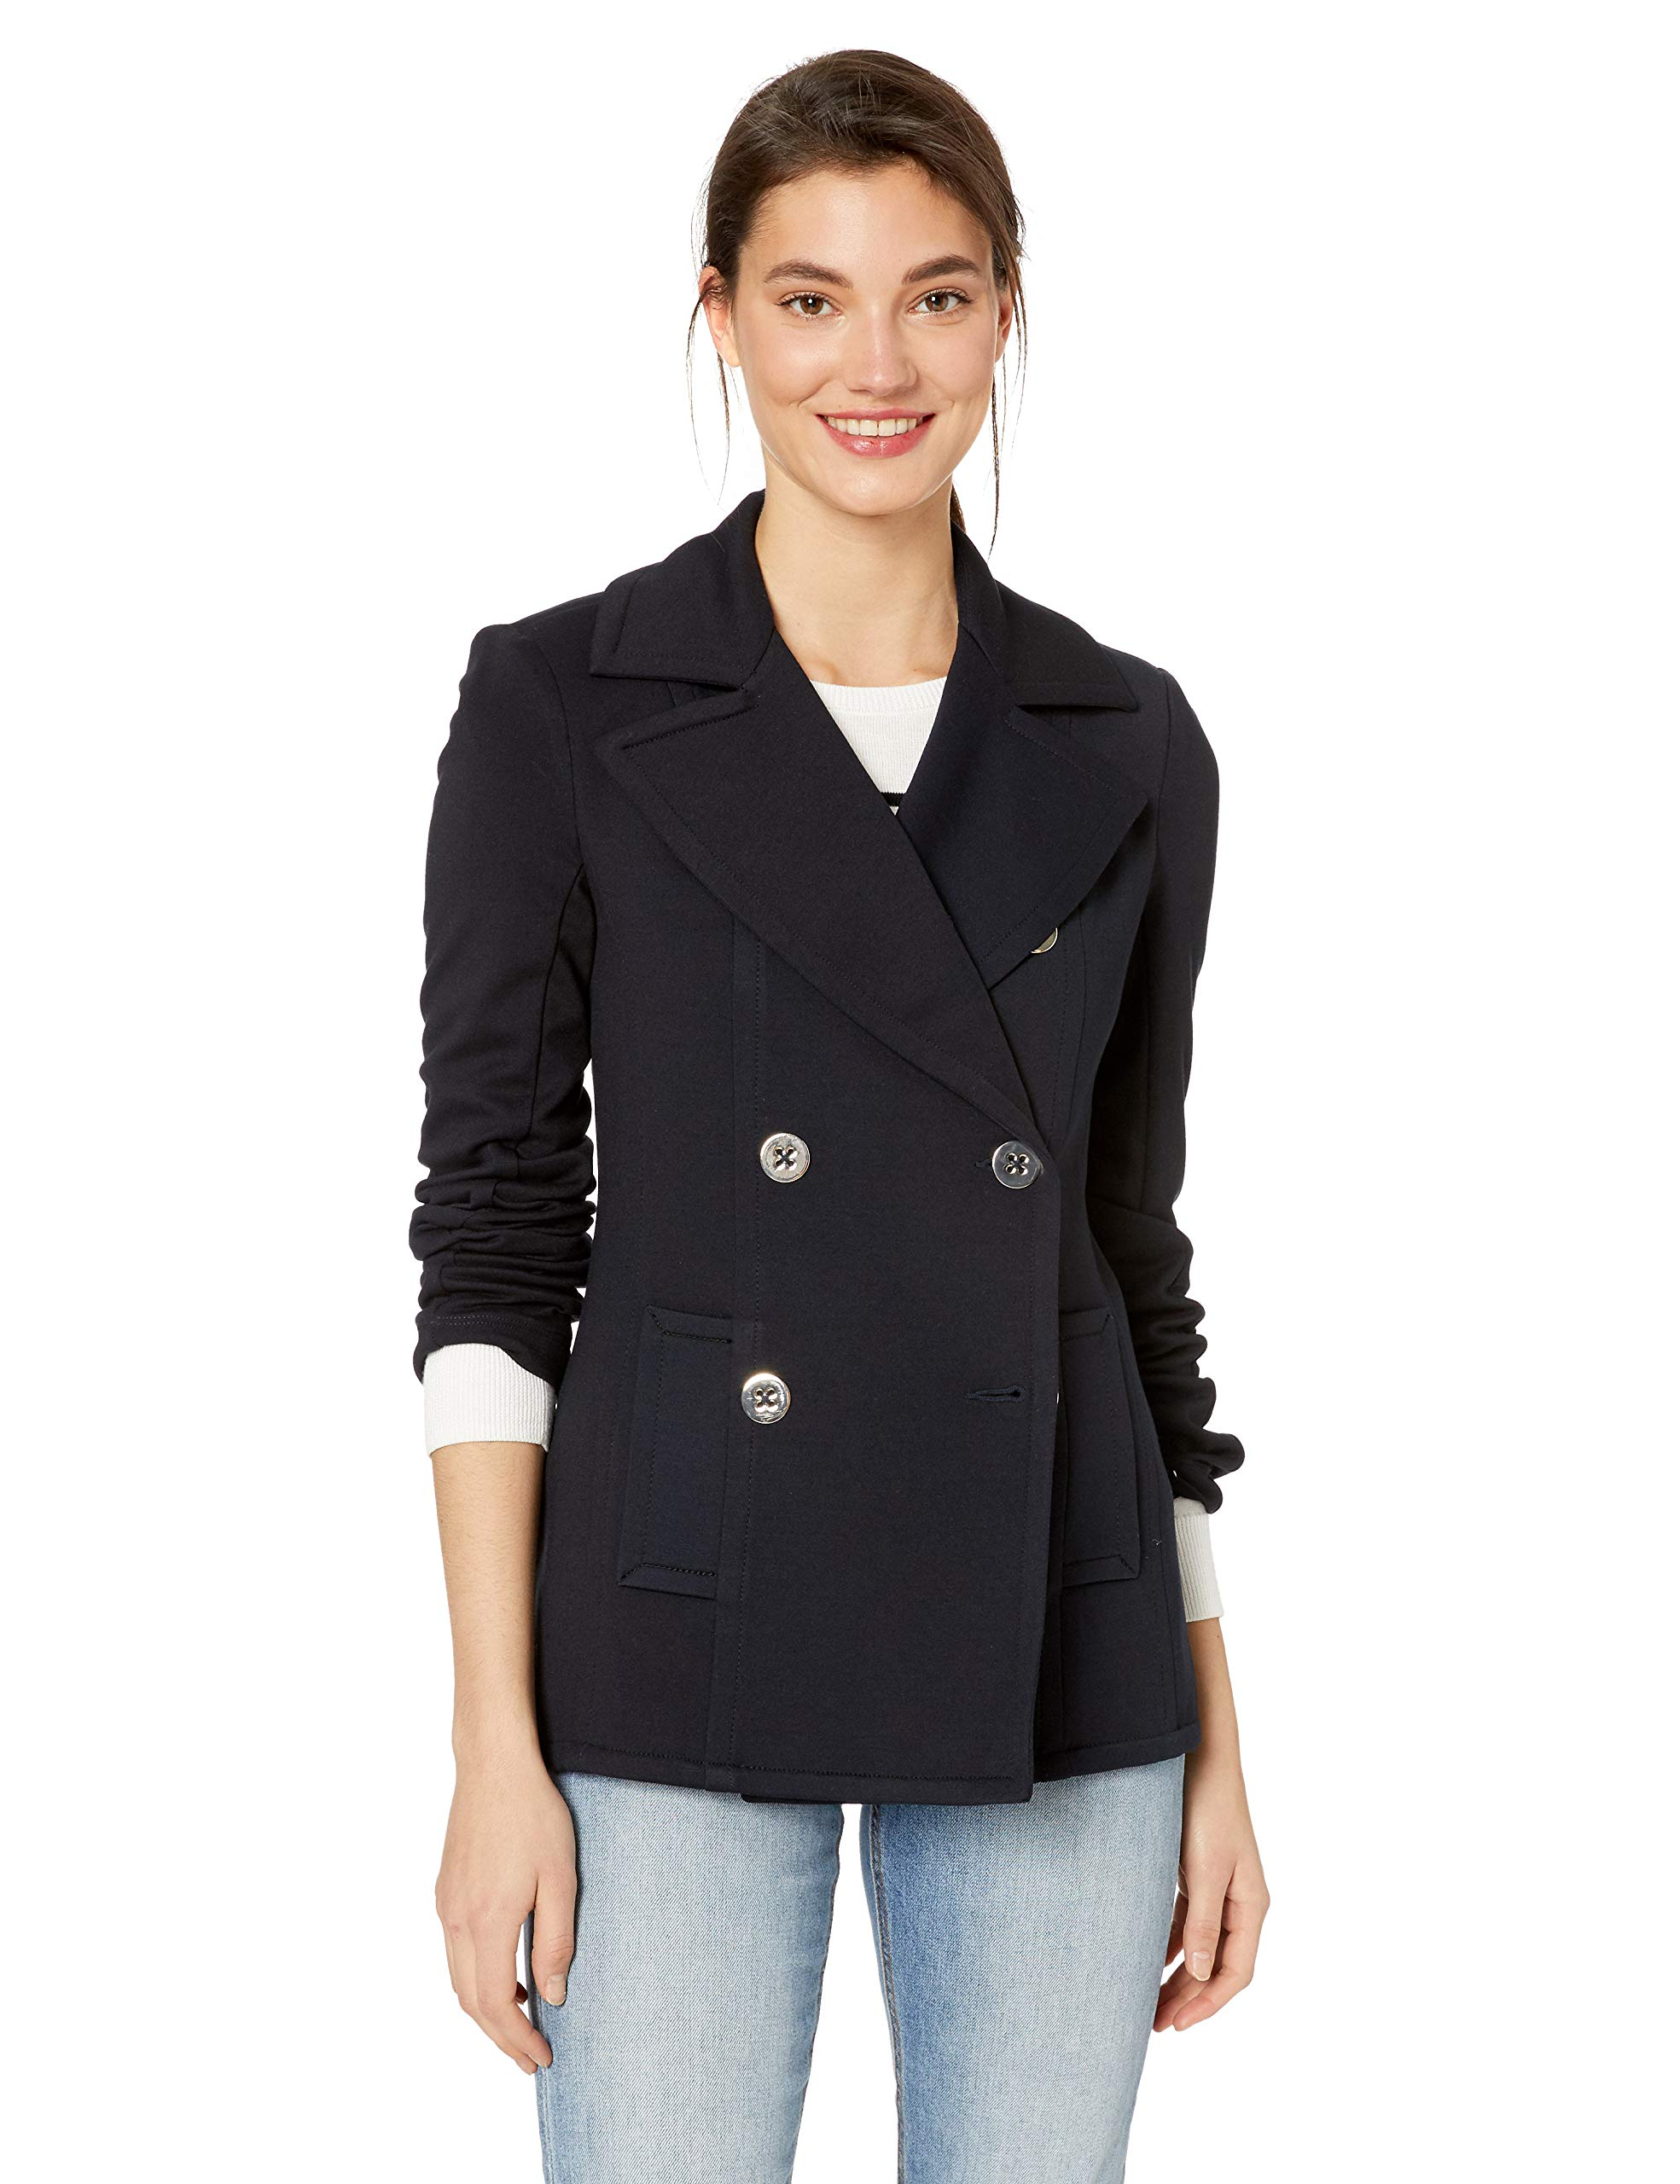F_W_suit jacket: (378, 489, 1253, 1836)
